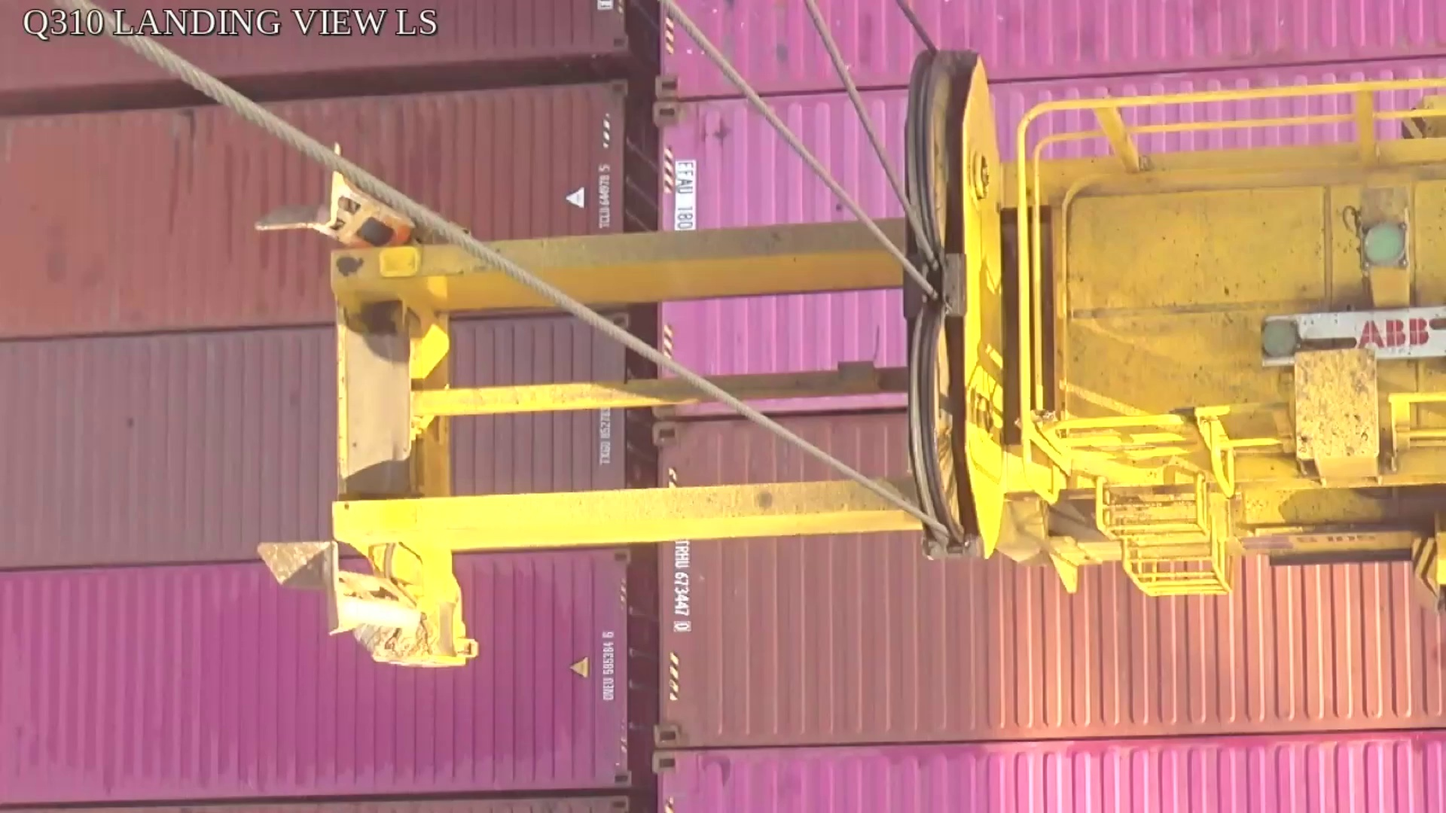aa: (903, 50, 1002, 560)
